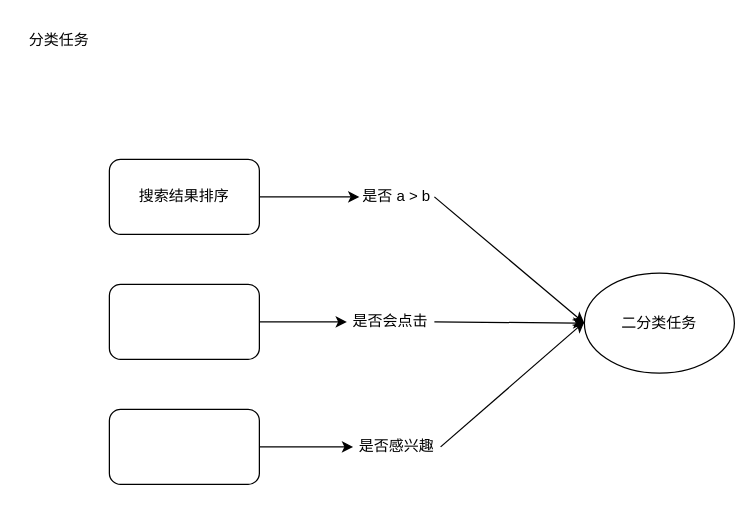
This 756x506 diagram has some shape labels left out. The shapes that lost their labels are listed below. From the top down, each one's centre as x and y in pixels, then its label:
(x=183, y=321): 广告展示
(x=183, y=446): 内容推荐
